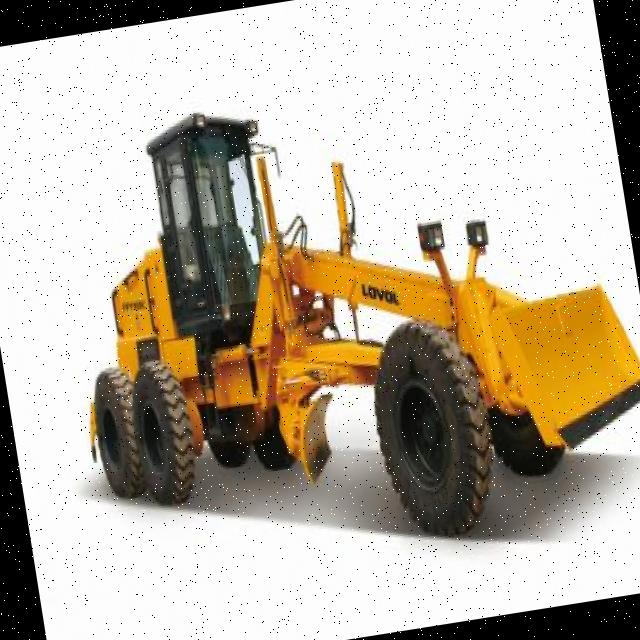Grader: (31, 23, 640, 613)
